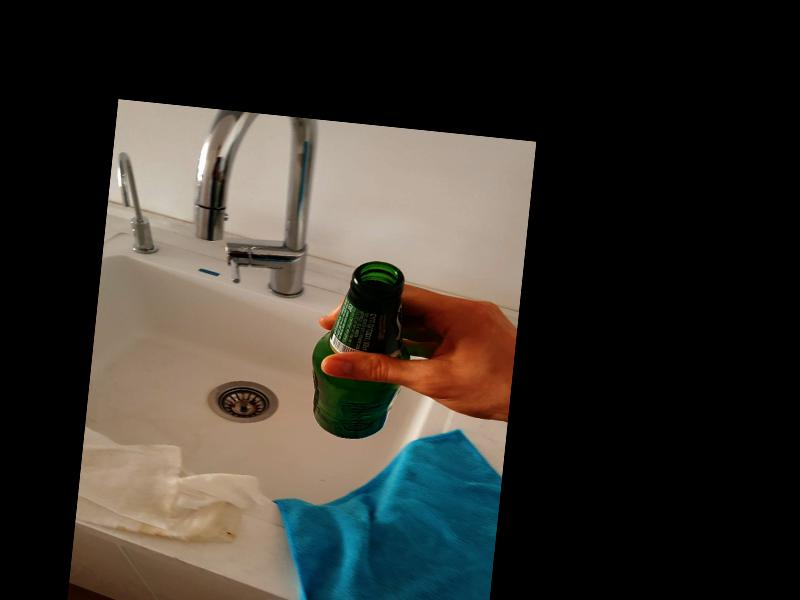Beer: (303, 256, 417, 444)
